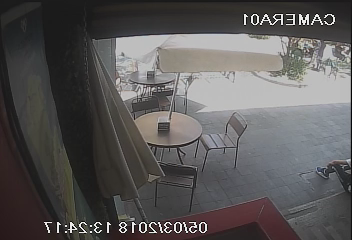libre: (118, 96, 247, 201), (121, 65, 190, 112)
